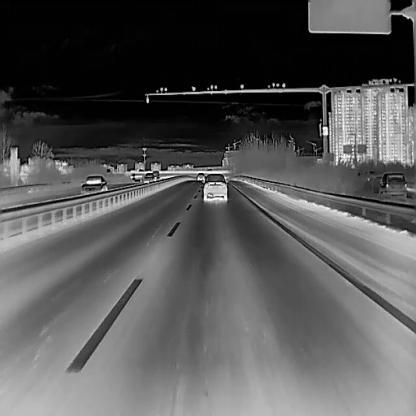car: (202, 173, 228, 201), (378, 173, 407, 198), (80, 174, 107, 194), (143, 172, 155, 182), (152, 170, 160, 180), (196, 172, 204, 180)
